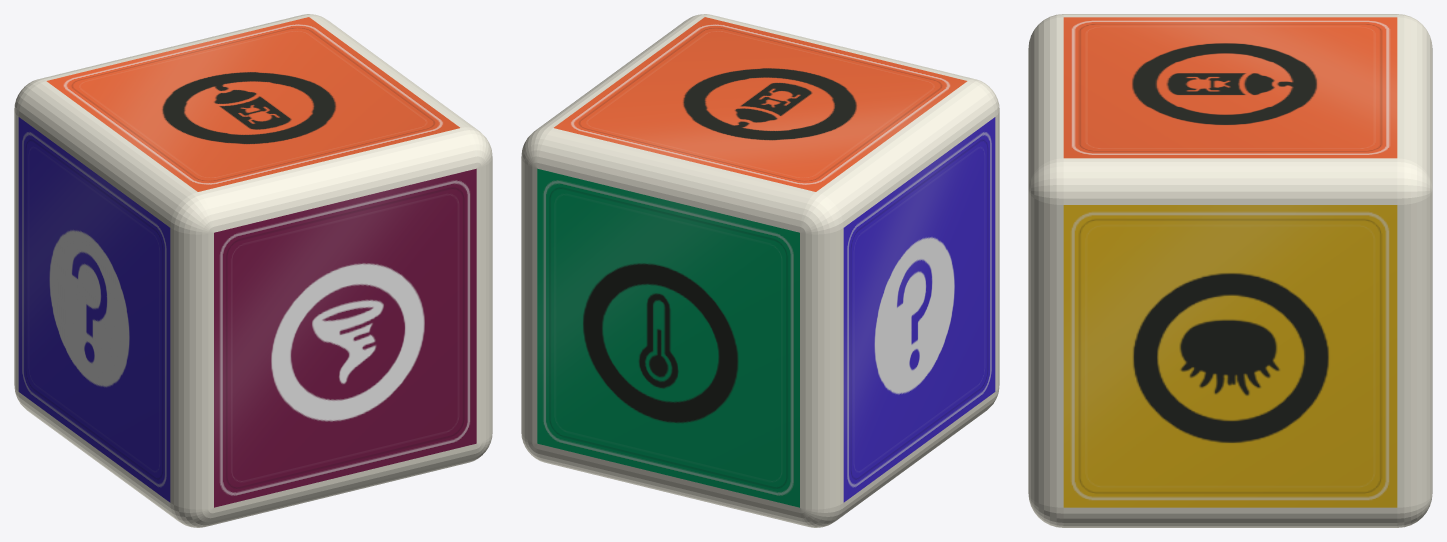
The model's file is a_game_of_hives_dice_gtac_glossy.glb.
3 views of the same model, side by side, from view 1: azimuth 30°, elevation 25°; view 2: azimuth 150°, elevation 25°; view 3: azimuth 270°, elevation 25° (orthographic). The views are drawn at different scales.
Visible parts, largest first — view 1: Face_Extreme_Weather, Polished_Rounded_Ceramic_Edges, Face_Improvement_Left, Face_Pesticides; view 2: Face_Climate_Change_Habitat_Loss, Polished_Rounded_Ceramic_Edges, Face_Improvement_Left, Face_Pesticides; view 3: Face_Varroa_Mite, Polished_Rounded_Ceramic_Edges, Face_Pesticides.
Boxes of the visible parts, left/top/right/bottom form: Face_Extreme_Weather: left=214, top=168, right=476, bottom=507; Polished_Rounded_Ceramic_Edges: left=14, top=14, right=492, bottom=527; Face_Improvement_Left: left=18, top=117, right=170, bottom=502; Face_Pesticides: left=46, top=17, right=459, bottom=191; Face_Climate_Change_Habitat_Loss: left=537, top=168, right=799, bottom=507; Polished_Rounded_Ceramic_Edges: left=521, top=14, right=999, bottom=527; Face_Improvement_Left: left=843, top=117, right=995, bottom=502; Face_Pesticides: left=554, top=17, right=967, bottom=191; Face_Varroa_Mite: left=1063, top=205, right=1397, bottom=507; Polished_Rounded_Ceramic_Edges: left=1028, top=14, right=1432, bottom=527; Face_Pesticides: left=1063, top=17, right=1397, bottom=158.
Bounding box in the file's own units: 1 × 1 × 1.
1 material, 1 textured.
